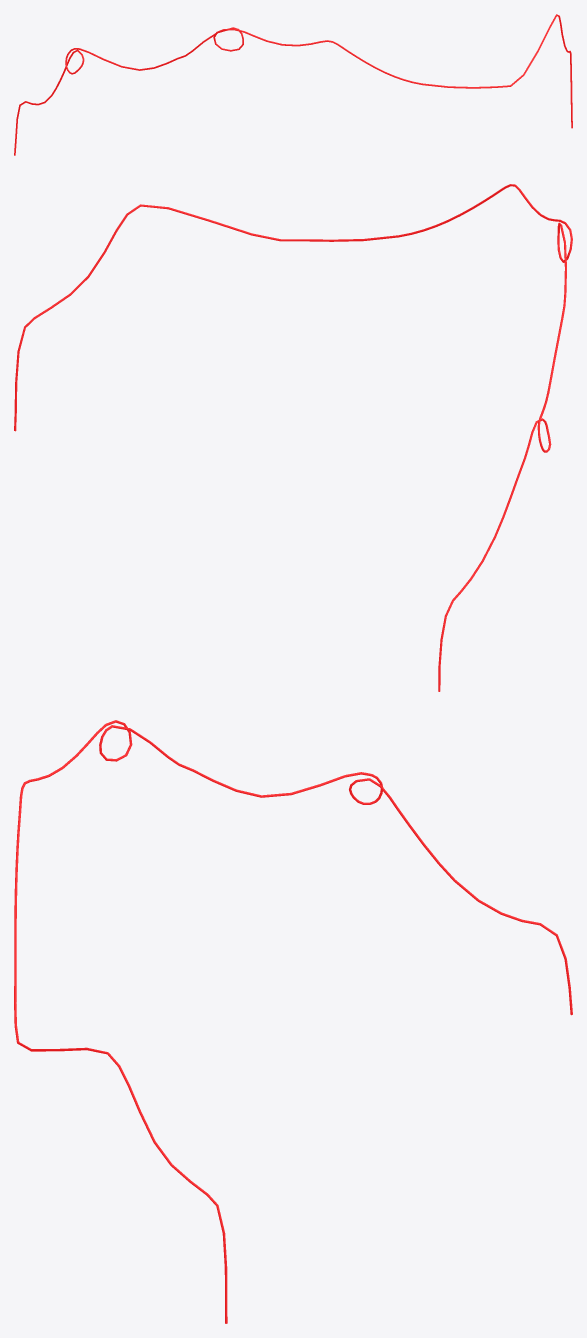
Rendered from m_Rope01.fbx.
3 renders of one model, top to bottom at view 1: azimuth 30°, elevation 25°; view 2: azimuth 150°, elevation 25°; view 3: azimuth 270°, elevation 25°, orthographic. The views are drawn at different scales.
Visible parts, largest first — view 1: m_Rope01; view 2: m_Rope01; view 3: m_Rope01.
Boxes of the visible parts, left/top/right/bottom form: m_Rope01: left=14, top=14, right=572, bottom=155; m_Rope01: left=14, top=184, right=572, bottom=691; m_Rope01: left=14, top=720, right=572, bottom=1323.
Bounding box in the file's own units: 1829 × 872 × 1317.
